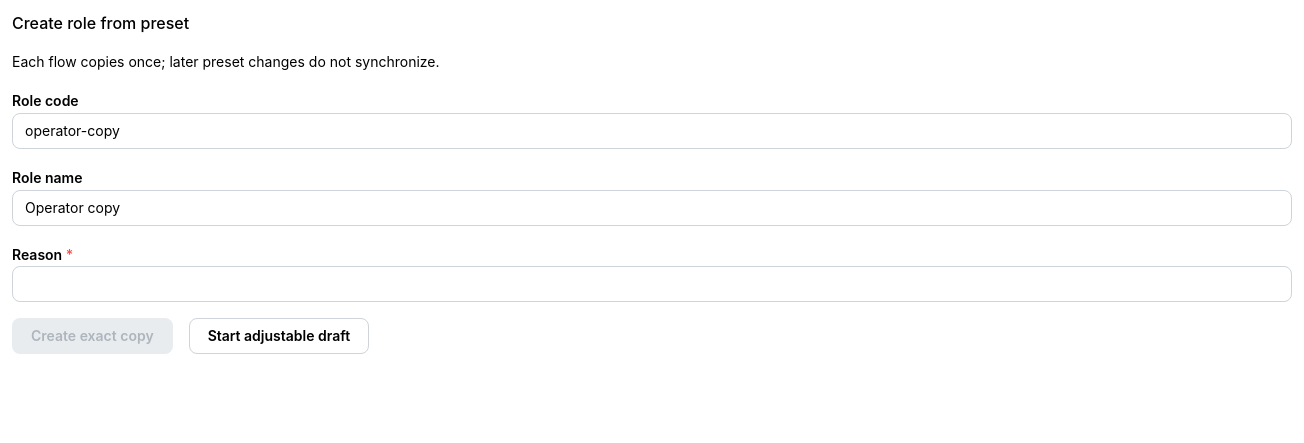
PresetCopyPanel › submits exact copies without permissions and preserves errors and draft fields
Replace the text in the field labelled "Role code" with "custom-copy" at (652, 131), box [12, 113, 1292, 149]
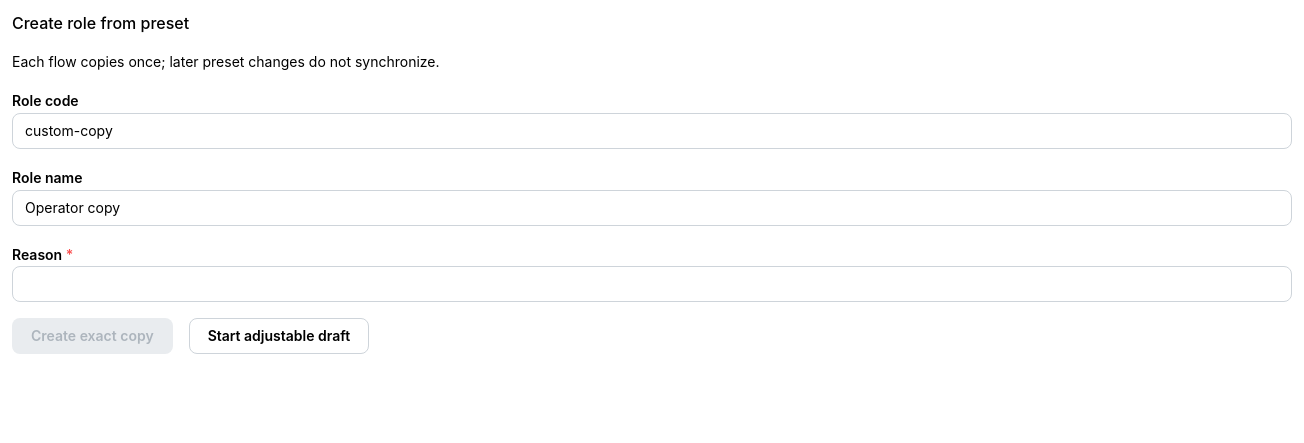
Type "Exact copy" into the field labelled "Reason *" at (652, 284), box [12, 266, 1292, 302]
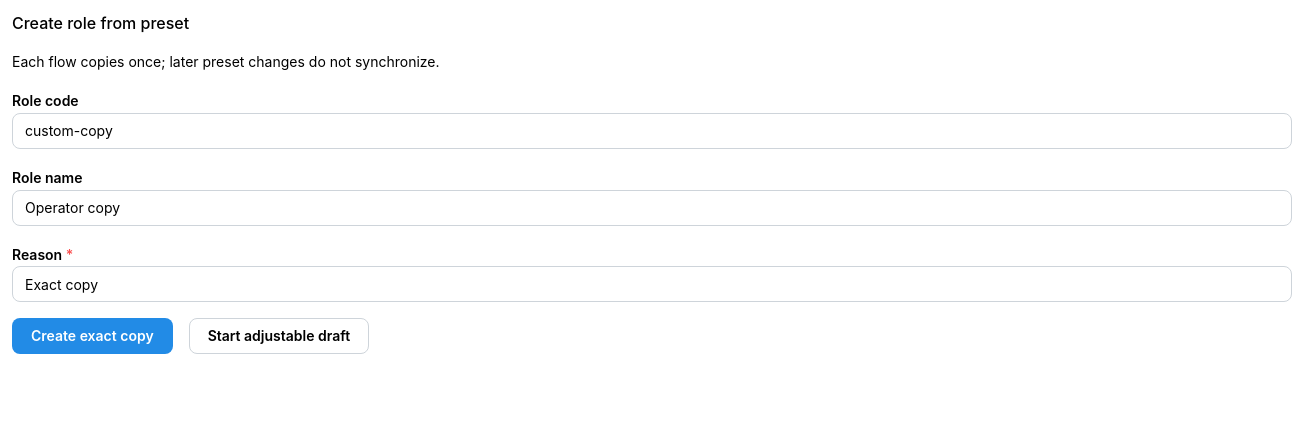
Click the button "Create exact copy" at (92, 336), box [12, 318, 173, 354]
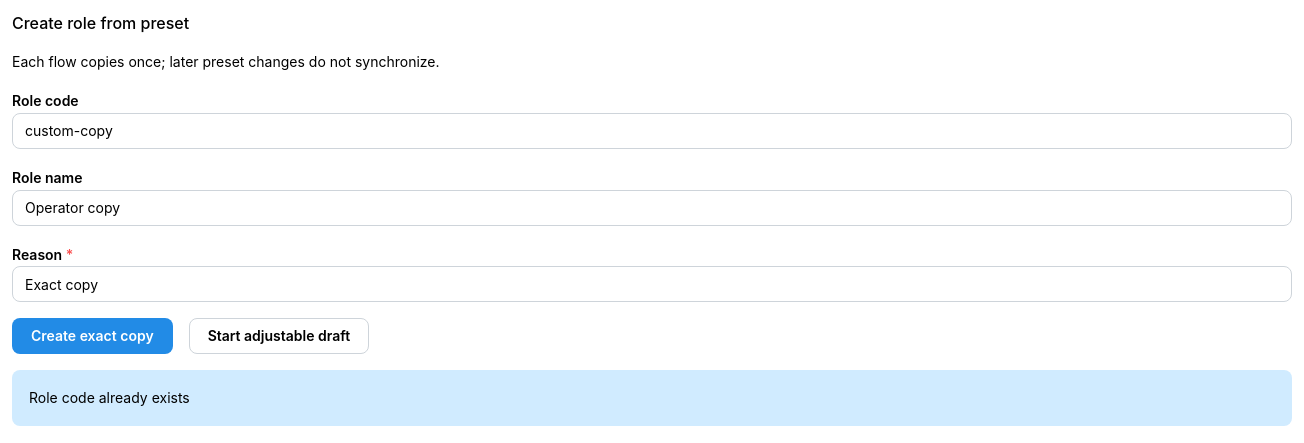
Result: the text "Role code already exists" is shown at [29, 390, 190, 406]
